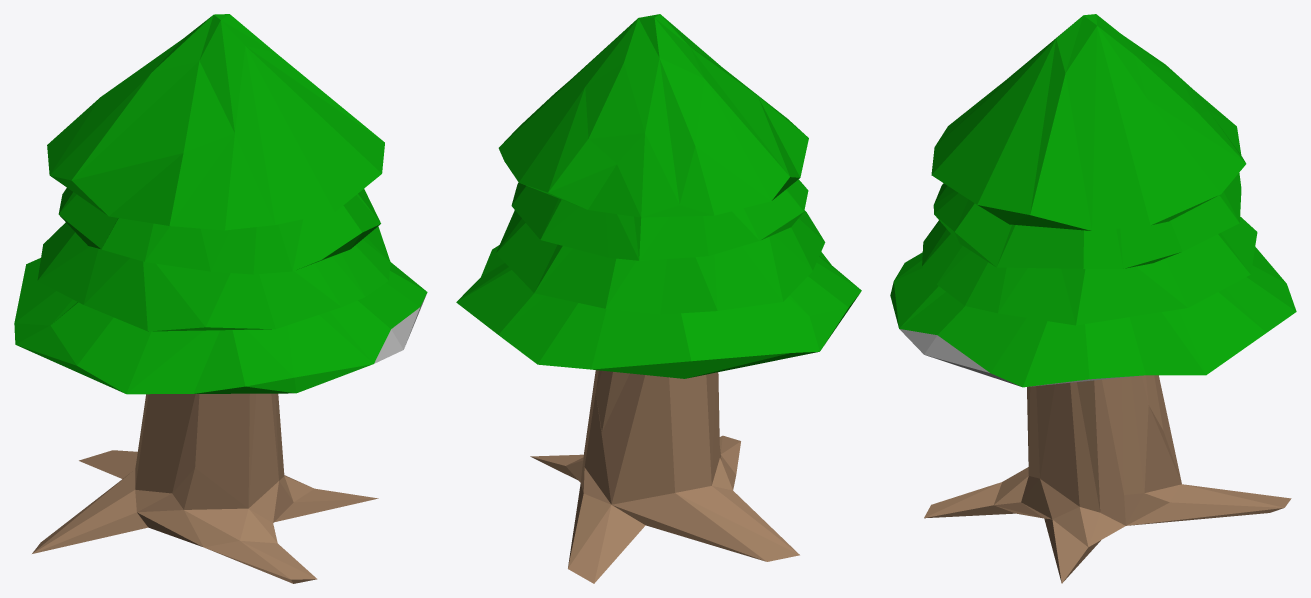
The model's file is Nadelbaum2_Mesh.fbx.
The picture shows the model from 3 angles, left to right: view 1: azimuth 30°, elevation 25°; view 2: azimuth 150°, elevation 25°; view 3: azimuth 270°, elevation 25°; orthographic projection. The views are drawn at different scales.
Parts seen in each view (by area): view 1: Nadelbaum2; view 2: Nadelbaum2; view 3: Nadelbaum2.
Boxes of the visible parts, x1,y1,x2,y2 form: Nadelbaum2: [14, 14, 427, 583]; Nadelbaum2: [456, 14, 861, 583]; Nadelbaum2: [890, 14, 1296, 583].
Size of the model in its own units: 67.82 by 91.79 by 67.
